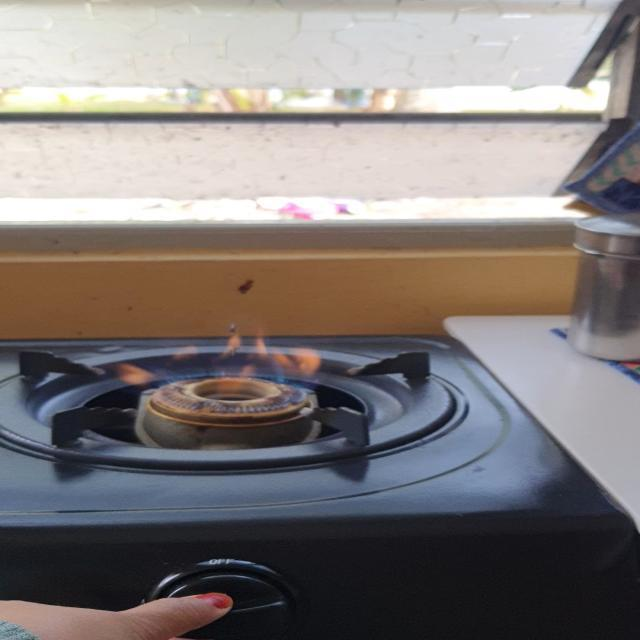smoke: (121, 325, 332, 420)
